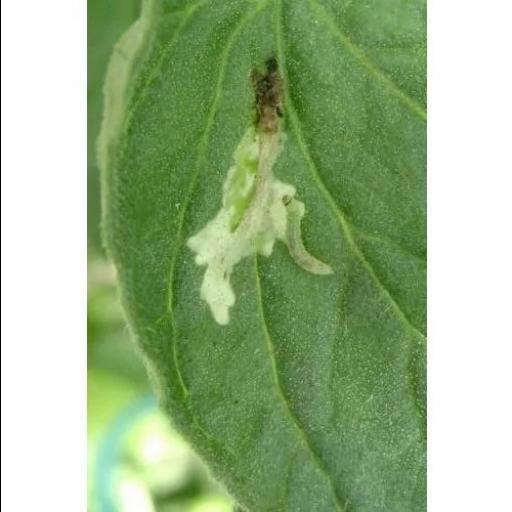disease_tomato: (100, 0, 428, 512)
